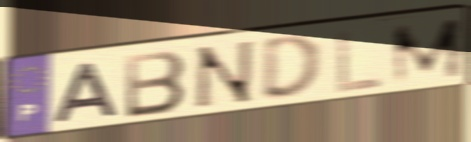A: (51, 59, 123, 127)
B: (122, 48, 188, 121)
D: (258, 32, 325, 102)
L: (334, 27, 386, 96)
M: (389, 15, 467, 89)
N: (189, 38, 258, 113)
